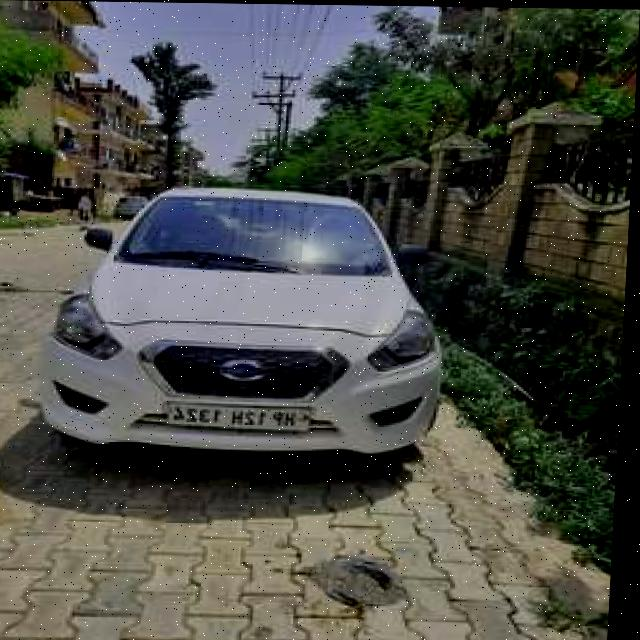plate: (170, 398, 318, 432)
